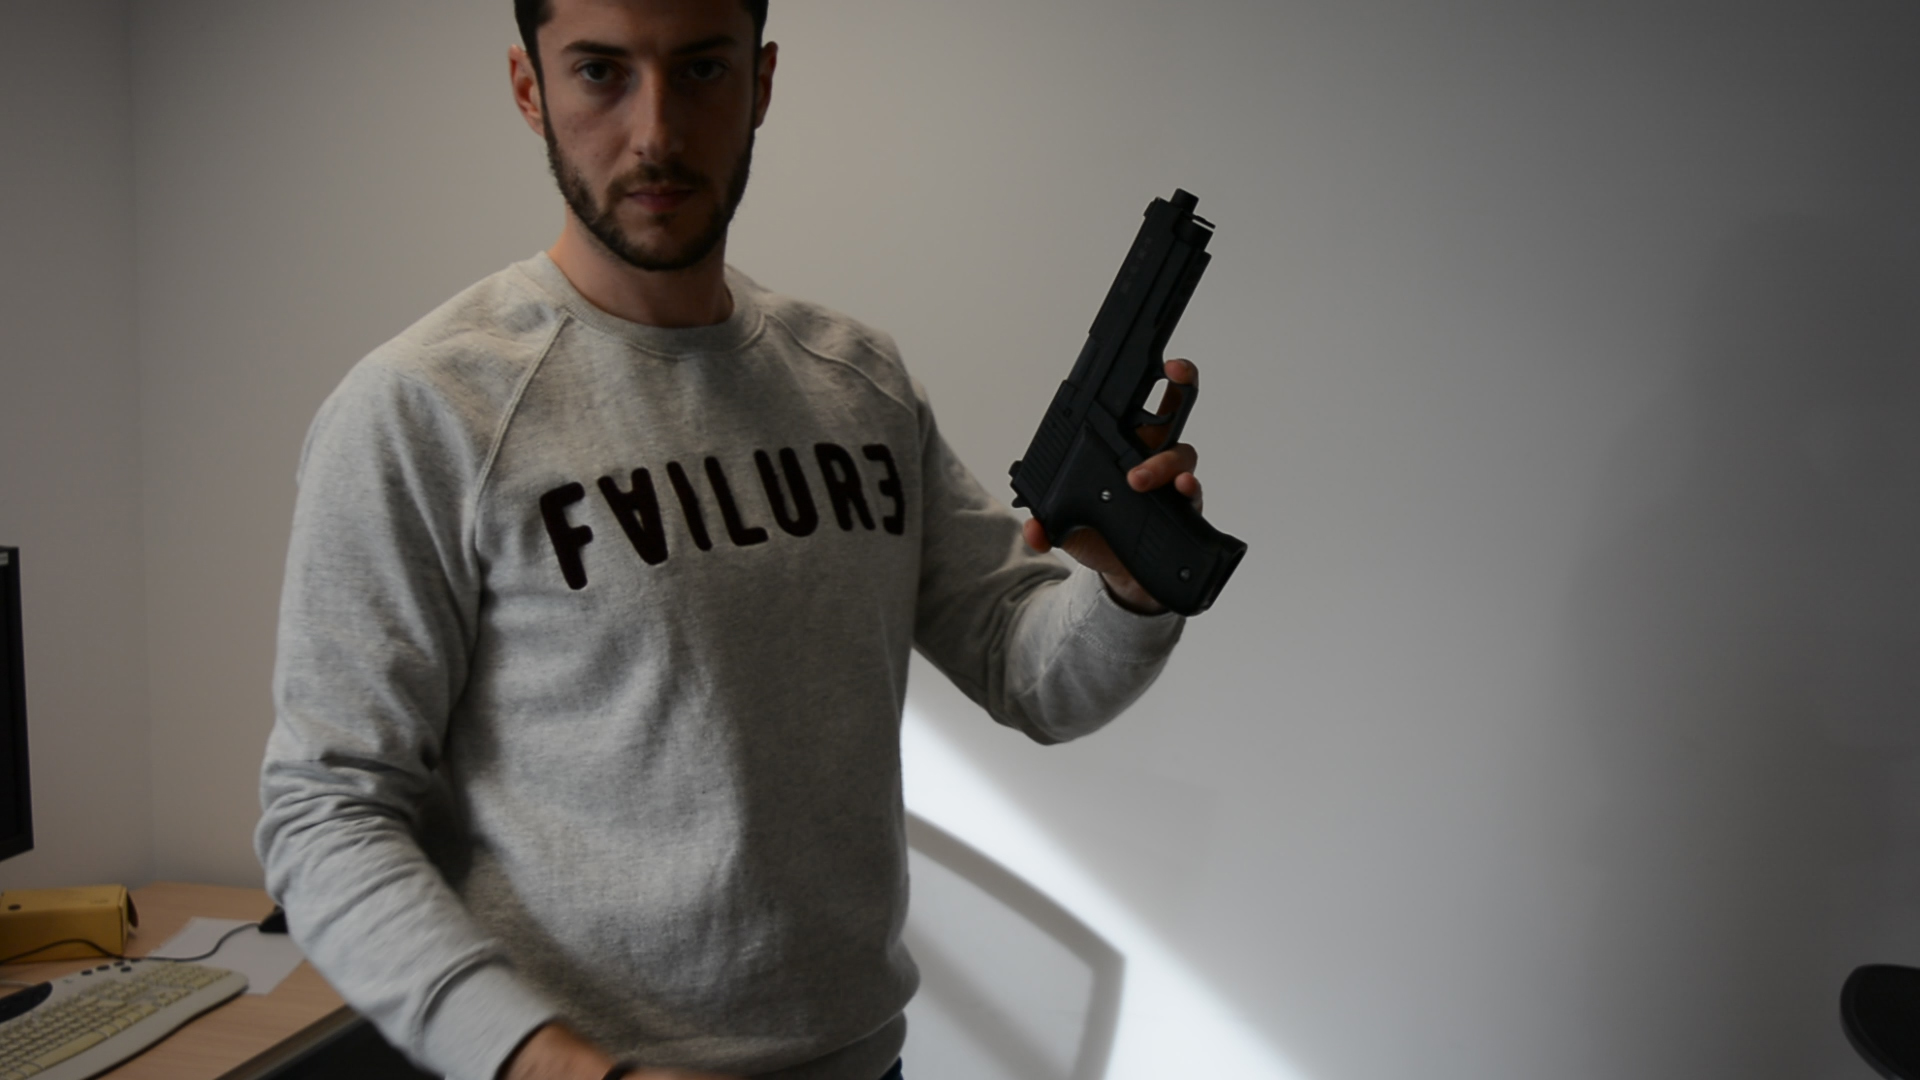pistol: (1006, 186, 1250, 618)
